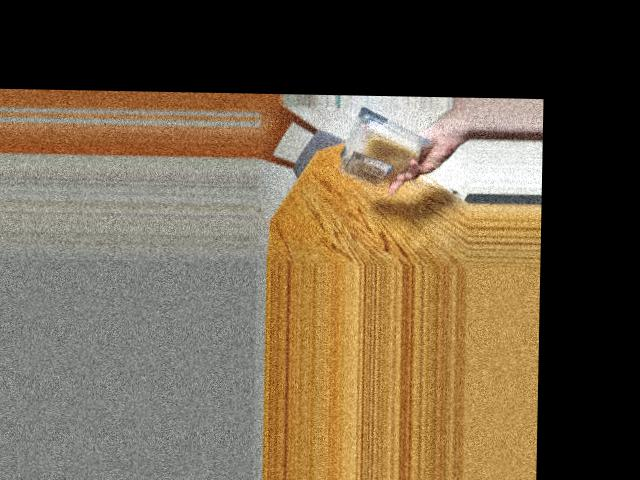cheese: (339, 119, 423, 180)
